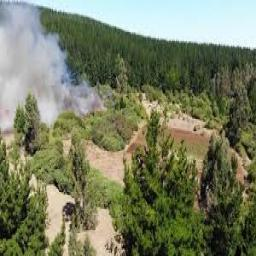Heavy smoke: (1, 1, 105, 129)
